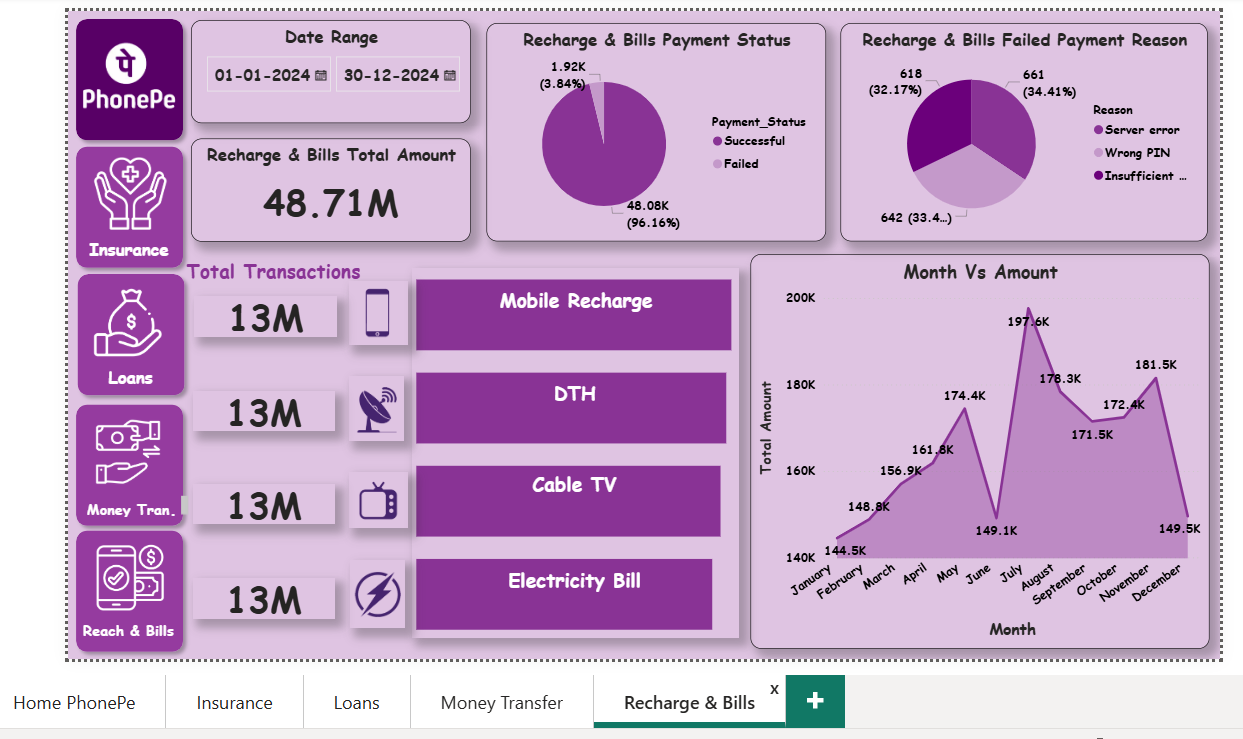

The page's visual inventory and layout, read from the dashboard file:
{"tool":"powerbi","page":{"name":"Recharge & Bills","canvas":[1280,720],"ordinal":4},"visuals":[{"type":"shape","box":[0,0,136.8,152.7],"z":0,"group":"g2"},{"type":"shape","box":[0,141.6,136.8,152.7],"z":0,"group":"g1"},{"type":"shape","box":[1.6,283.1,136.8,152.7],"z":0,"group":"g3"},{"type":"shape","box":[0,427.9,136.8,152.7],"z":0,"group":"g4"},{"type":"shape","box":[0,567.8,136.8,152.7],"z":0,"group":"g5"},{"type":"image","box":[6.4,12.7,120.9,122.5],"z":5,"group":"g2"},{"type":"card","title":"Recharge & Bills Total Amount","fields":{"Values":["Sum(Recharge_Bills.Amount)"]},"box":[136,142.5,310.9,115],"z":1000},{"type":"image","box":[14.3,147.9,108.2,108.2],"z":1000,"group":"g1"},{"type":"image","box":[20.7,295.9,95.4,97],"z":1000,"group":"g3"},{"type":"image","box":[19.1,443.8,97,89.1],"z":1000,"group":"g4"},{"type":"image","box":[17.5,580.5,105,95.4],"z":1000,"group":"g5"},{"type":"textbox","box":[4.8,246.5,125.7,36.6],"z":2000,"group":"g1"},{"type":"textbox","box":[8,388.1,122.5,39.8],"z":2000,"group":"g3"},{"type":"textbox","box":[11.1,532.9,127.2,33.4],"z":2000,"group":"g4"},{"type":"textbox","box":[8,671.2,117.7,49.3],"z":2000,"group":"g5"},{"type":"group","id":"g1","title":"Group 2","box":[0,0,136.8,294.3],"z":3000,"group":"g3"},{"type":"group","id":"g2","title":"Group 1","box":[0,0,136.8,152.7],"z":3000,"group":"g1"},{"type":"areaChart","title":"Month Vs Amount","fields":{"Category":["Recharge_Bills.Date.Variation.Date Hierarchy.Month"],"Y":["Sum(Recharge_Bills.Amount)"]},"box":[757.8,270.4,510.1,438.8],"z":6000},{"type":"group","id":"g3","title":"Group 3","box":[0,0,138.4,435.8],"z":8000},{"type":"group","id":"g4","title":"Group 4","box":[0,427.9,138.4,152.7],"z":9000},{"type":"group","id":"g5","title":"Group 5","box":[0,567.8,136.8,152.7],"z":10000},{"type":"actionButton","box":[9.7,8.1,119.8,136],"z":11000},{"type":"actionButton","box":[8.1,147.3,123.1,140.9],"z":12000},{"type":"actionButton","box":[11.3,291.5,119.8,136],"z":13000},{"type":"actionButton","box":[8.1,437.2,119.8,131.2],"z":14000},{"type":"actionButton","box":[9.7,574.8,119.8,136],"z":15000},{"type":"slicer","title":"Date Range","fields":{"Values":["Recharge_Bills.Date"]},"box":[136,9.7,310.9,115],"z":15001},{"type":"pieChart","title":"Recharge & Bills Payment Status","fields":{"Category":["Recharge_Bills.Payment_Status"],"Y":["CountNonNull(Recharge_Bills.Payment_Status)"]},"box":[464.7,13,377.3,242.9],"z":15002},{"type":"pieChart","title":"Recharge & Bills Failed Payment Reason","fields":{"Category":["Recharge_Bills.Reason"],"Y":["CountNonNull(Recharge_Bills.Reason)"]},"box":[858.2,13,408,242.9],"z":15003},{"type":"clusteredBarChart","title":"Date Vs Amount","fields":{"Category":["Recharge_Bills.Recharge_Type"],"Y":["CountNonNull(Recharge_Bills.Recharge_Type)"]},"box":[382.1,285,364.3,411.3],"z":15004},{"type":"image","box":[310.9,511.7,66.4,63.1],"z":15005},{"type":"image","box":[312.5,610.4,61.5,76.1],"z":15006},{"type":"image","box":[310.9,299.6,66.4,71.2],"z":15007},{"type":"image","box":[310.9,404.8,61.5,72.9],"z":15008},{"type":"textbox","box":[89.1,268.8,280.1,63.1],"z":15009},{"type":"card","title":"Total Amount","fields":{"Values":["Sum(Recharge_Bills.Amount)"]},"box":[139.3,317.4,158.7,45.3],"z":15010},{"type":"card","title":"Total Amount","fields":{"Values":["Sum(Recharge_Bills.Amount)"]},"box":[138.8,422,157.8,45.6],"z":15011},{"type":"card","title":"Total Amount","fields":{"Values":["Sum(Recharge_Bills.Amount)"]},"box":[138.8,524.7,157.8,45.6],"z":15012},{"type":"card","title":"Total Amount","fields":{"Values":["Sum(Recharge_Bills.Amount)"]},"box":[138.8,629.2,157.8,45.6],"z":15013},{"type":"textbox","box":[425.8,300.4,279.4,62.7],"z":15014},{"type":"textbox","box":[423.9,403,279.4,62.7],"z":15015},{"type":"textbox","box":[423.9,505.7,279.4,62.7],"z":15016},{"type":"textbox","box":[423.9,612.1,279.4,62.7],"z":15017}]}

Visuals, with their boxes on the page's 1280x720 design canvas (x1, y1, x2, y2). These are canvas units, not pixel positions in the 1243x739 screenshot, which may show the page scaled, cropped or inside an application window:
shape: bbox=(0, 0, 137, 153)
shape: bbox=(0, 142, 137, 294)
shape: bbox=(2, 283, 138, 436)
shape: bbox=(0, 428, 137, 581)
shape: bbox=(0, 568, 137, 720)
image: bbox=(6, 13, 127, 135)
"Recharge & Bills Total Amount" card: bbox=(136, 142, 447, 258)
image: bbox=(14, 148, 122, 256)
image: bbox=(21, 296, 116, 393)
image: bbox=(19, 444, 116, 533)
image: bbox=(18, 580, 122, 676)
textbox: bbox=(5, 246, 130, 283)
textbox: bbox=(8, 388, 130, 428)
textbox: bbox=(11, 533, 138, 566)
textbox: bbox=(8, 671, 126, 720)
"Group 2" group: bbox=(0, 0, 137, 294)
"Group 1" group: bbox=(0, 0, 137, 153)
"Month Vs Amount" areaChart: bbox=(758, 270, 1268, 709)
"Group 3" group: bbox=(0, 0, 138, 436)
"Group 4" group: bbox=(0, 428, 138, 581)
"Group 5" group: bbox=(0, 568, 137, 720)
actionButton: bbox=(10, 8, 130, 144)
actionButton: bbox=(8, 147, 131, 288)
actionButton: bbox=(11, 292, 131, 428)
actionButton: bbox=(8, 437, 128, 568)
actionButton: bbox=(10, 575, 130, 711)
"Date Range" slicer: bbox=(136, 10, 447, 125)
"Recharge & Bills Payment Status" pieChart: bbox=(465, 13, 842, 256)
"Recharge & Bills Failed Payment Reason" pieChart: bbox=(858, 13, 1266, 256)
"Date Vs Amount" clusteredBarChart: bbox=(382, 285, 746, 696)
image: bbox=(311, 512, 377, 575)
image: bbox=(312, 610, 374, 686)
image: bbox=(311, 300, 377, 371)
image: bbox=(311, 405, 372, 478)
textbox: bbox=(89, 269, 369, 332)
"Total Amount" card: bbox=(139, 317, 298, 363)
"Total Amount" card: bbox=(139, 422, 297, 468)
"Total Amount" card: bbox=(139, 525, 297, 570)
"Total Amount" card: bbox=(139, 629, 297, 675)
textbox: bbox=(426, 300, 705, 363)
textbox: bbox=(424, 403, 703, 466)
textbox: bbox=(424, 506, 703, 568)
textbox: bbox=(424, 612, 703, 675)
